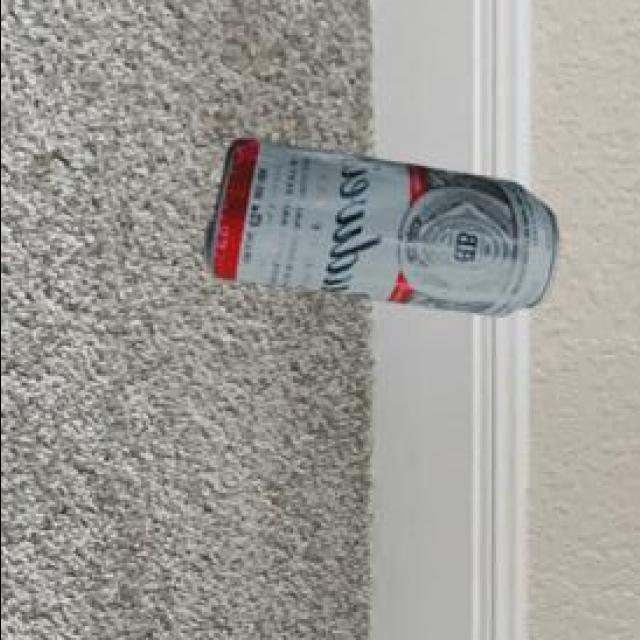logam: (209, 144, 562, 319)
